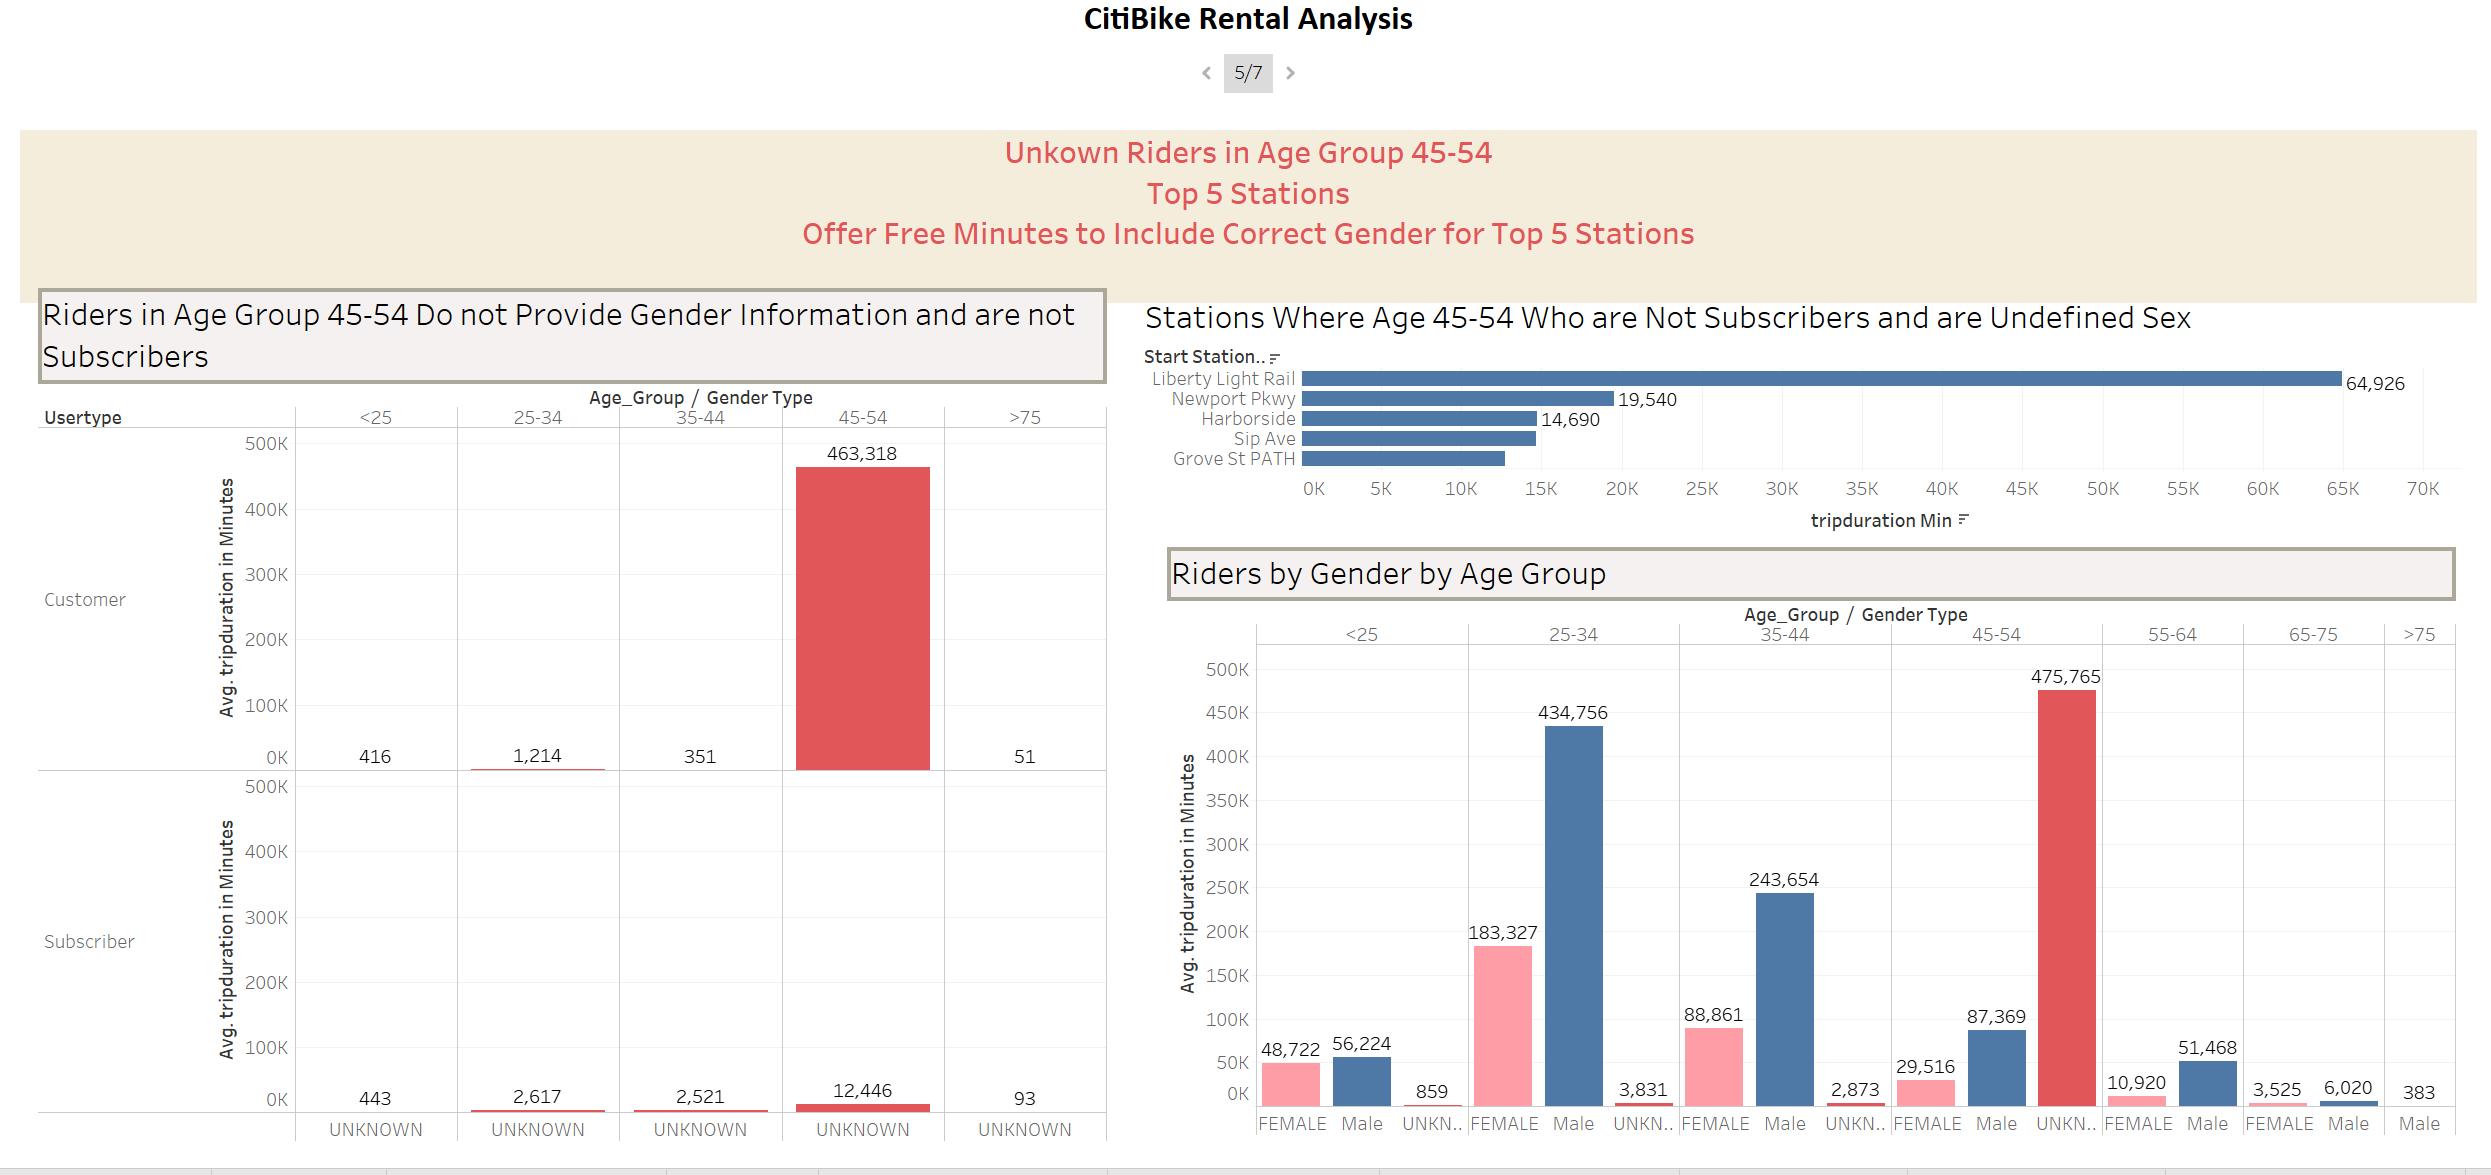

The page's visual inventory and layout, read from the dashboard file:
{"tool":"tableau","page":{"name":"Data Improvement Campain","canvas":[1000,1000],"units":"permille","ordinal":0},"visuals":[{"type":"worksheet","box":[0,0,1000,1000]},{"type":"worksheet","param":"vert","box":[3.2,7.1,993.5,985.8]},{"type":"worksheet","box":[3.2,7.1,993.5,160.9]},{"type":"worksheet","title":"Riders by Unknown UserType","mark":"Bar","rows":["usertype","tripduration_Min"],"cols":["Gender_Type"],"box":[12,163.3,431.1,819.2]},{"type":"worksheet","title":"Unknown Age Group by Station","mark":"Automatic","rows":["start station name"],"cols":["tripduration_Min"],"box":[456.8,166.1,532.4,268.4]},{"type":"worksheet","title":"Riders by Gender","mark":"Bar","rows":["tripduration_Min"],"cols":["Gender_Type"],"box":[467.2,411.4,519.5,565.5]}]}

Visuals, with their boxes on the dashboard's canvas, which has no fixed pixel size, in thousandths of its width and height (x1, y1, x2, y2). These are canvas units, not pixel positions in the 2491x1175 screenshot, which may show the page scaled, cropped or inside an application window:
worksheet: left=0, top=0, right=1000, bottom=1000
worksheet: left=3, top=7, right=997, bottom=993
worksheet: left=3, top=7, right=997, bottom=168
"Riders by Unknown UserType" worksheet (Bar marks): left=12, top=163, right=443, bottom=982
"Unknown Age Group by Station" worksheet: left=457, top=166, right=989, bottom=434
"Riders by Gender" worksheet (Bar marks): left=467, top=411, right=987, bottom=977
